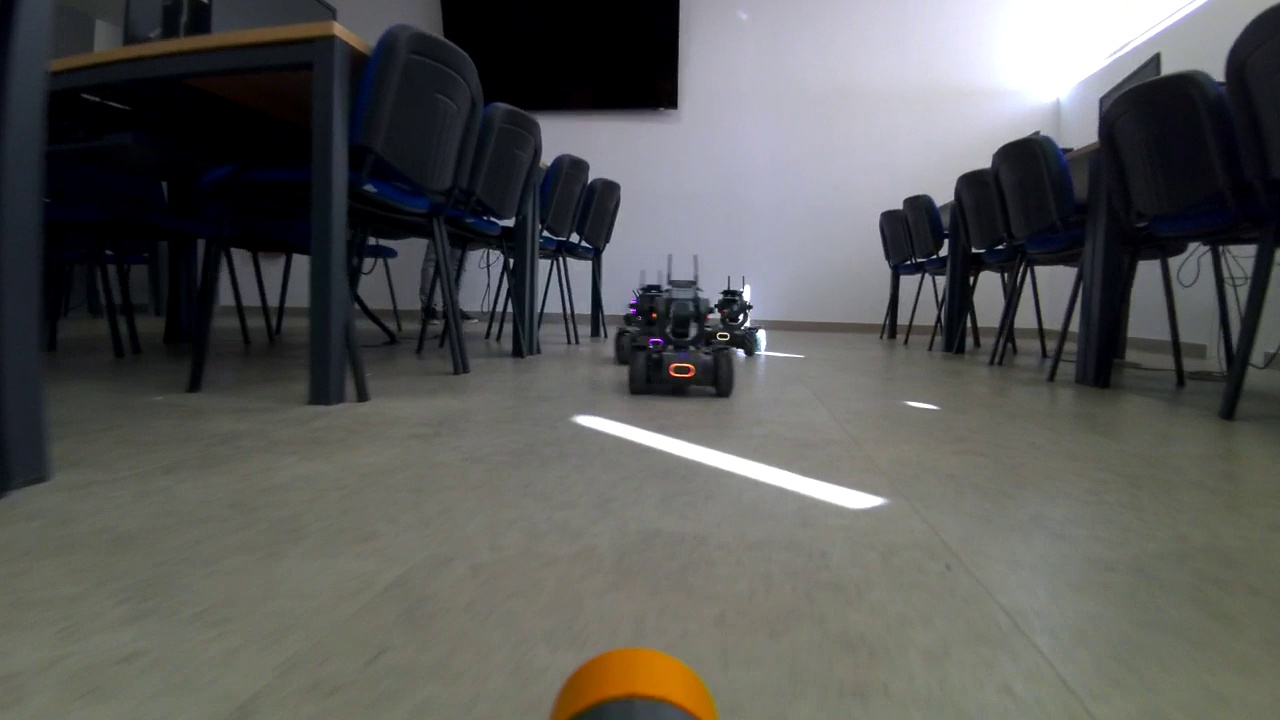robot: (627, 280, 735, 399), (715, 277, 770, 354)
